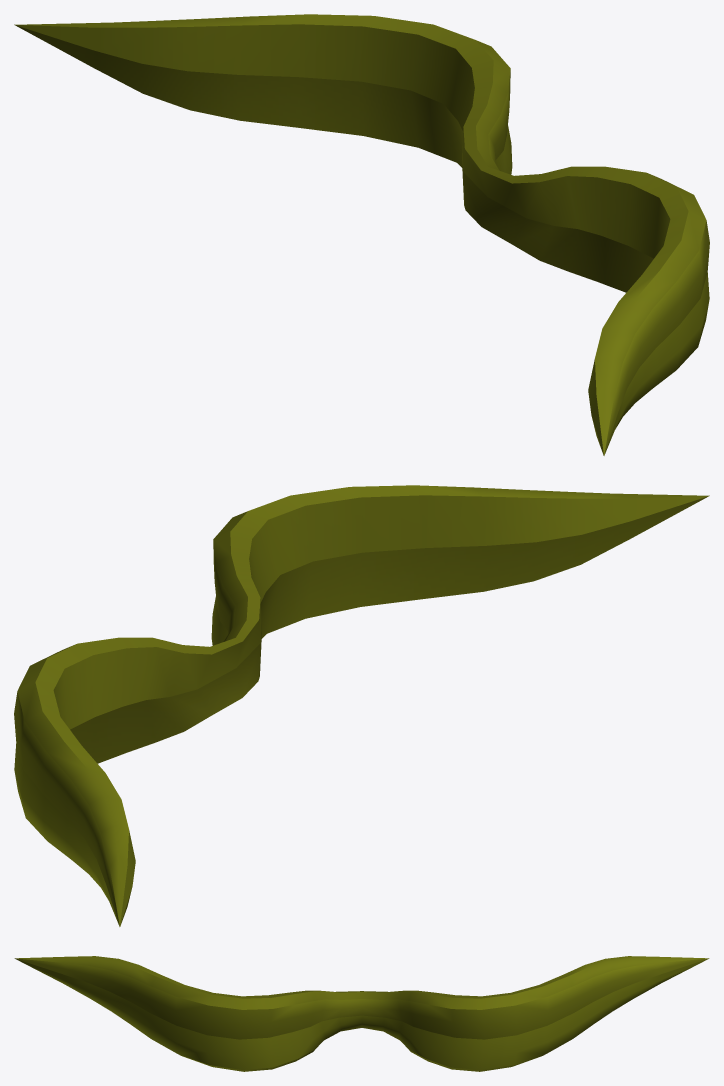
The model's file is PlantWarrior_Bow.obj.
The picture shows the model from 3 angles, top to bottom: view 1: azimuth 30°, elevation 25°; view 2: azimuth 150°, elevation 25°; view 3: azimuth 270°, elevation 25°; orthographic projection. The views are drawn at different scales.
Parts seen in each view (by area): view 1: PlantWarrior_Bow; view 2: PlantWarrior_Bow; view 3: PlantWarrior_Bow.
Boxes of the visible parts, box(x1,y1,x2,y2) form: PlantWarrior_Bow: box(14, 14, 709, 455); PlantWarrior_Bow: box(14, 485, 709, 926); PlantWarrior_Bow: box(14, 956, 709, 1071).
Size of the model in its own units: 0.582 by 0.2412 by 2.08.
1 material, 1 textured.
